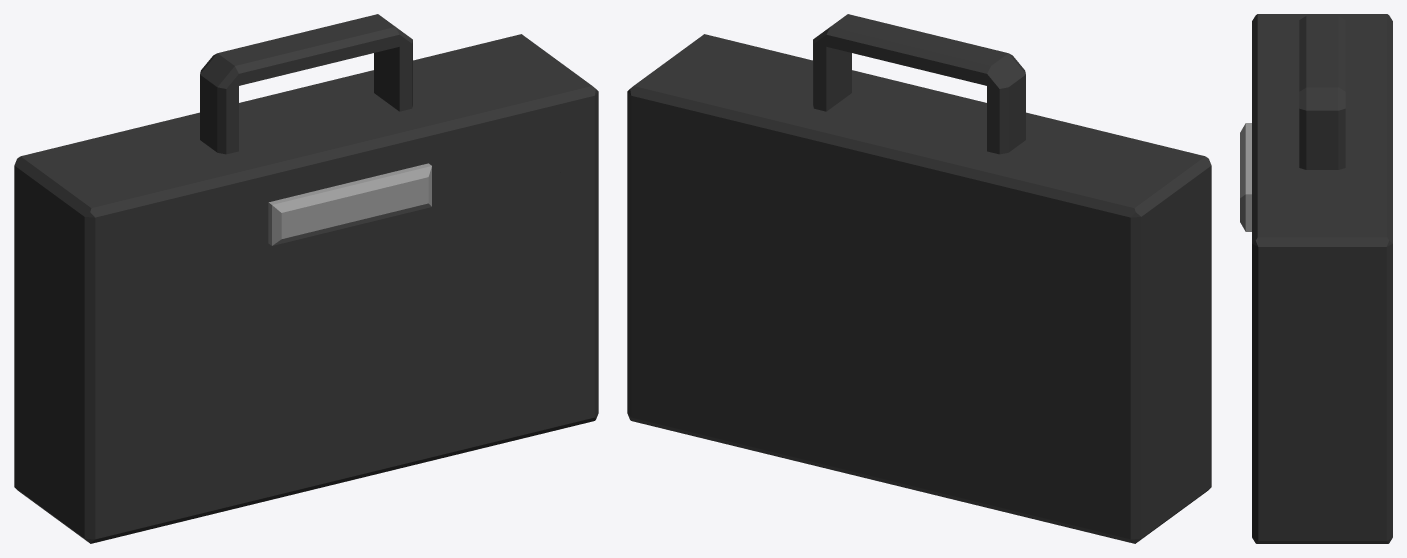
File: SuitCase.fbx
3 views of the same model, side by side, from view 1: azimuth 30°, elevation 25°; view 2: azimuth 150°, elevation 25°; view 3: azimuth 270°, elevation 25° (orthographic). The views are drawn at different scales.
Parts seen in each view (by area): view 1: SuitCase; view 2: SuitCase; view 3: SuitCase.
Part boxes in pixels (bbox=[...]): SuitCase: bbox=[14, 14, 598, 543]; SuitCase: bbox=[627, 14, 1211, 543]; SuitCase: bbox=[1240, 14, 1392, 543].
Size of the model in its own units: 200 by 155 by 56.32.
